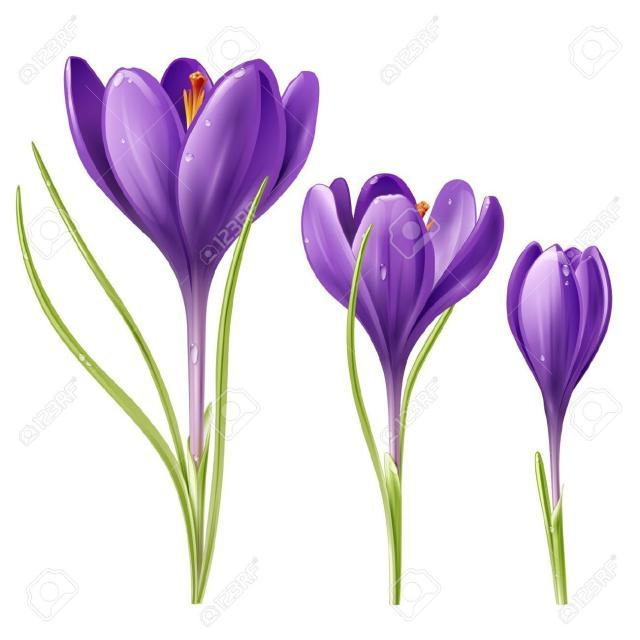Flower: (59, 51, 323, 367), (296, 174, 506, 348), (496, 236, 620, 404)
stigma: (166, 48, 225, 141), (402, 188, 439, 242)
